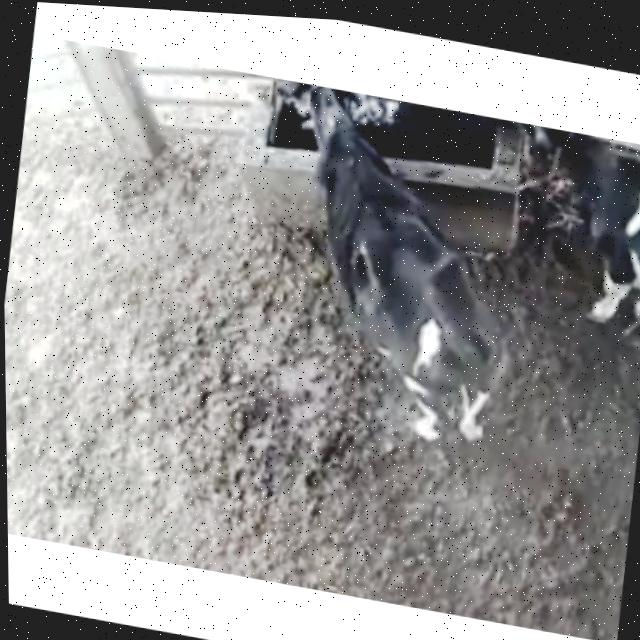drink: (244, 74, 441, 224)
